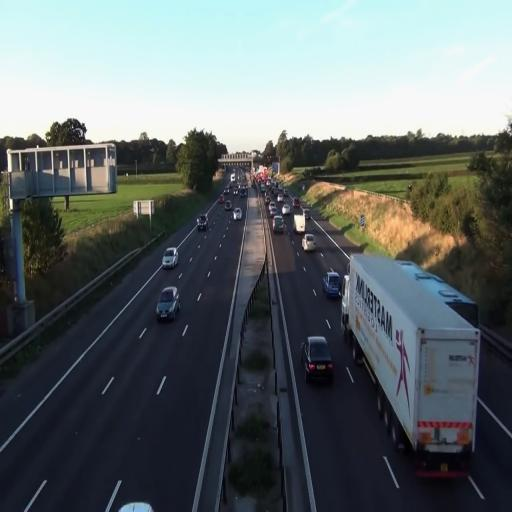vehicle: (342, 252, 480, 475), (302, 336, 334, 384), (156, 286, 179, 322), (322, 271, 342, 299), (162, 246, 178, 270), (302, 233, 316, 252), (273, 215, 285, 234), (197, 216, 207, 232)
